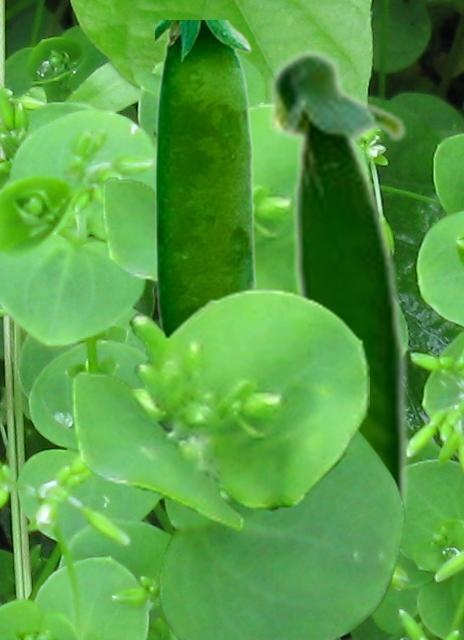pea: (265, 46, 409, 568), (155, 20, 259, 333)
